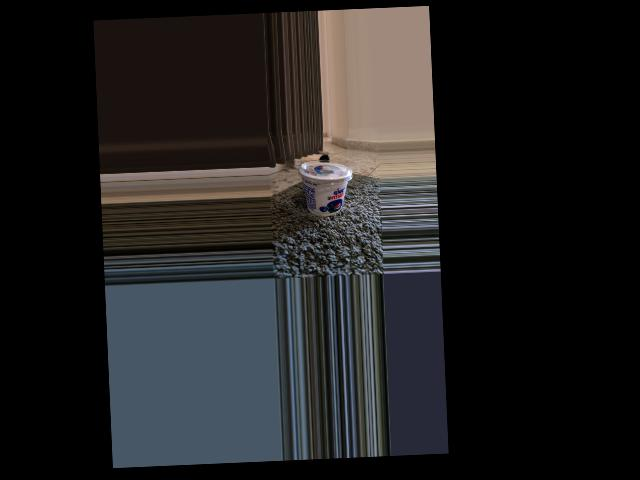cotage: (301, 158, 351, 218)
